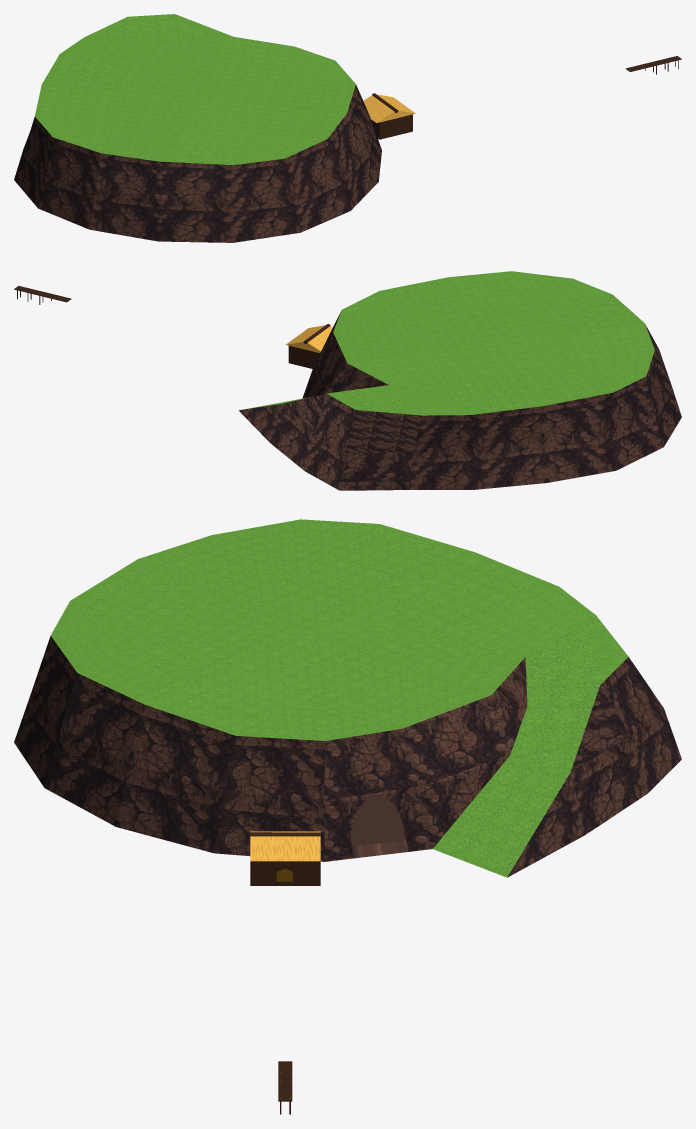
File: cave.fbx
3 views of the same model, one above another, from view 1: azimuth 30°, elevation 25°; view 2: azimuth 150°, elevation 25°; view 3: azimuth 270°, elevation 25° (orthographic). The views are drawn at different scales.
Visible parts, largest first — view 1: Cube.002, Cylinder; view 2: Cube.002, Cylinder, Cube; view 3: Cube.002, Cylinder.
Boxes of the visible parts, box(x1,y1,x2,y2) form: Cube.002: box(14, 14, 381, 242); Cylinder: box(363, 93, 415, 139); Cube.002: box(239, 271, 681, 490); Cylinder: box(286, 324, 332, 368); Cube: box(14, 285, 71, 304); Cube.002: box(14, 519, 681, 877); Cylinder: box(249, 831, 320, 885).
Size of the model in its own units: 49202 by 5858 by 28538.
